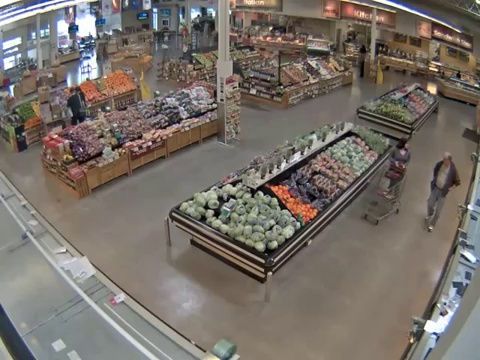face: (441, 154, 450, 167), (403, 140, 411, 149)
